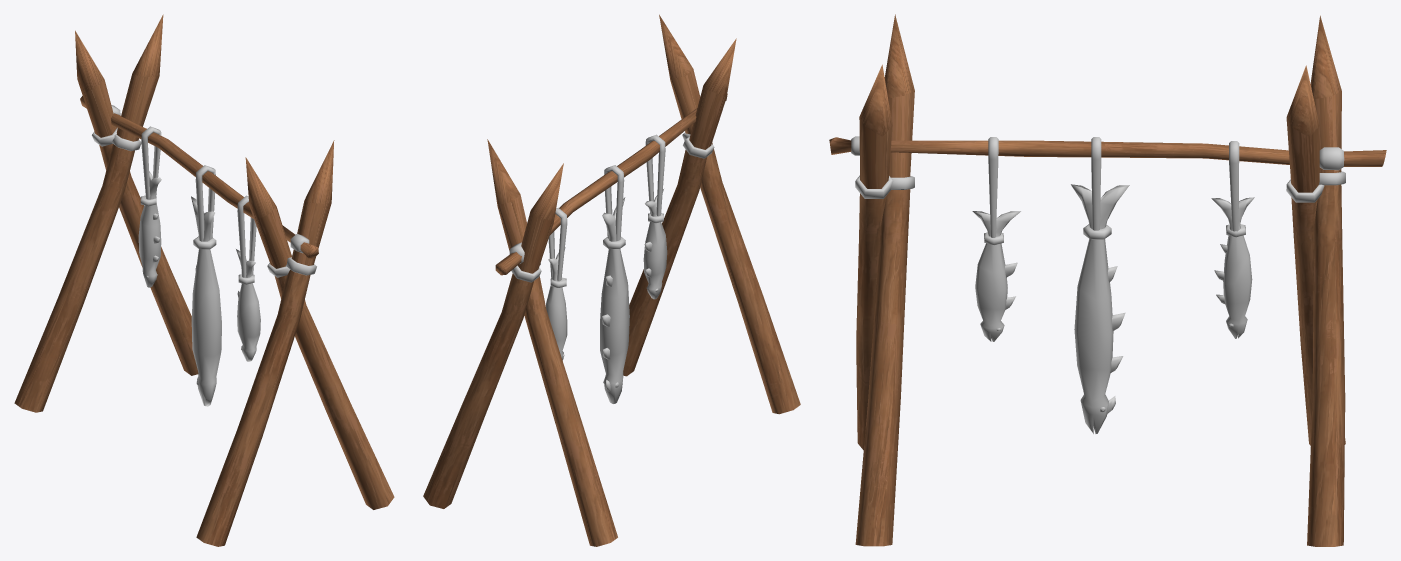
File: Dried Hanged Fish.fbx
The picture shows the model from 3 angles, left to right: view 1: azimuth 30°, elevation 25°; view 2: azimuth 150°, elevation 25°; view 3: azimuth 270°, elevation 25°; orthographic projection. The views are drawn at different scales.
Visible parts, largest first — view 1: Dried Hanged Fish; view 2: Dried Hanged Fish; view 3: Dried Hanged Fish.
Part boxes in pixels (x1,y1,x2,y2): Dried Hanged Fish: (14,14,394,546); Dried Hanged Fish: (423,14,800,546); Dried Hanged Fish: (829,14,1386,546).
Bounding box in the file's own units: 1.17 × 2.18 × 2.39.
